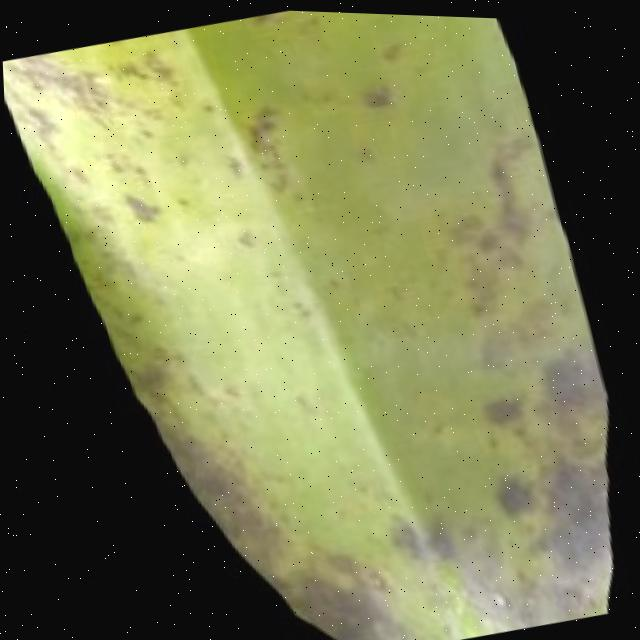mite: (65, 8, 445, 236), (376, 508, 419, 559), (117, 183, 159, 225)
